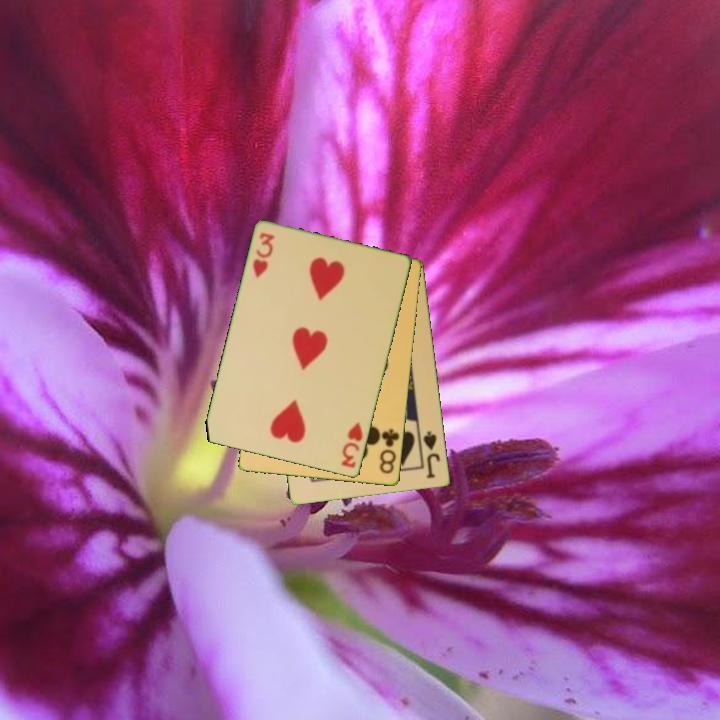3h: (249, 230, 278, 281), (338, 419, 366, 471)
8c: (376, 425, 402, 477)
Js: (420, 428, 443, 481)
